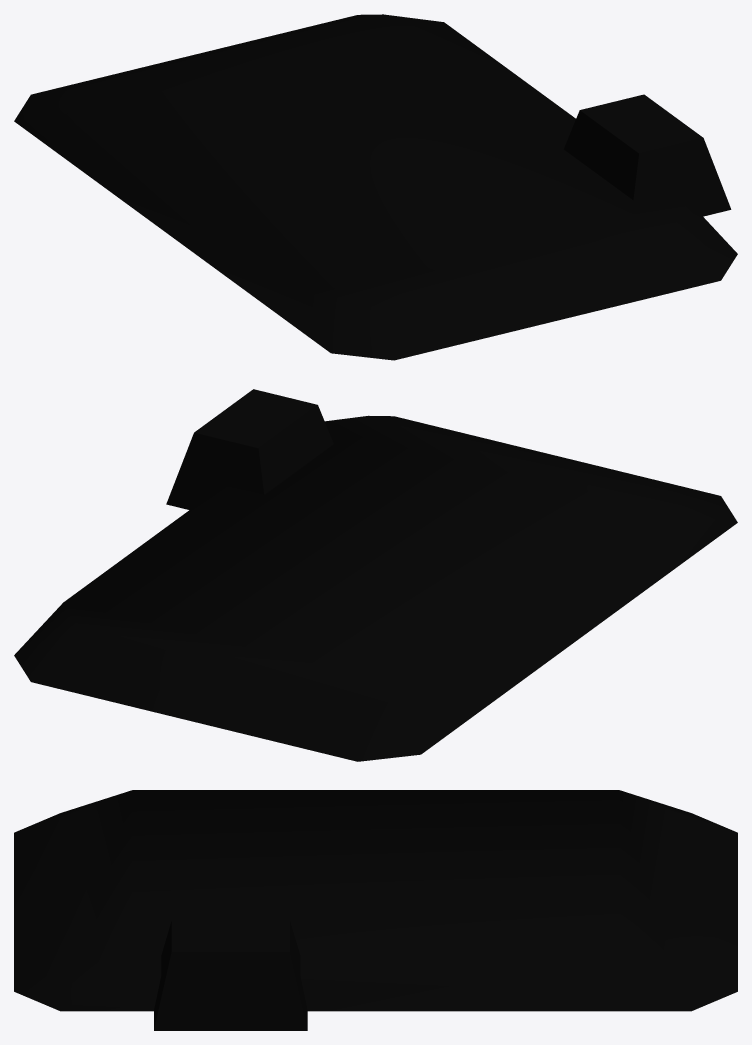
The model's file is turret_hgn_missile_fs_s_01_t1.glb.
The picture shows the model from 3 angles, top to bottom: view 1: azimuth 30°, elevation 25°; view 2: azimuth 150°, elevation 25°; view 3: azimuth 270°, elevation 25°; orthographic projection.
Parts seen in each view (by area): view 1: turret_hgn_missile_fs_s_01_LOD0; view 2: turret_hgn_missile_fs_s_01_LOD0; view 3: turret_hgn_missile_fs_s_01_LOD0.
Part boxes in pixels (box(x1,y1,x2,y2)): turret_hgn_missile_fs_s_01_LOD0: box(14, 14, 737, 360); turret_hgn_missile_fs_s_01_LOD0: box(14, 389, 737, 761); turret_hgn_missile_fs_s_01_LOD0: box(14, 790, 737, 1030).
Bounding box in the file's own units: 0.472 × 0.0705 × 0.6635.
Materials: 1 (1 with a texture image).
